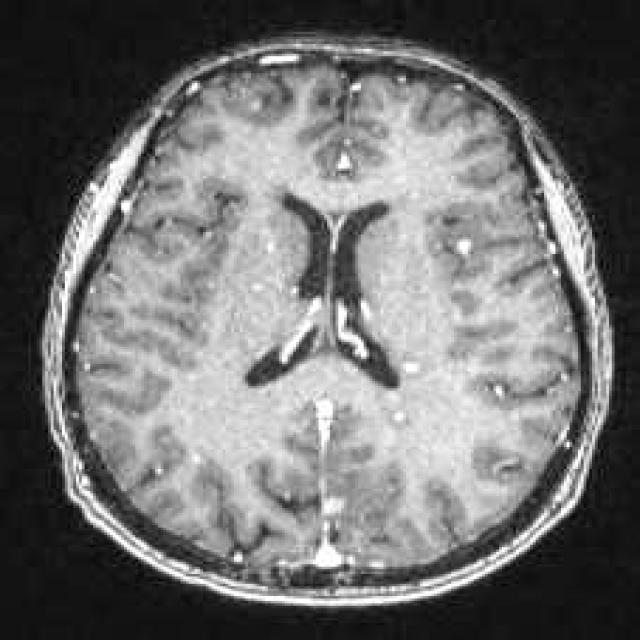notumor: (42, 37, 612, 603)
